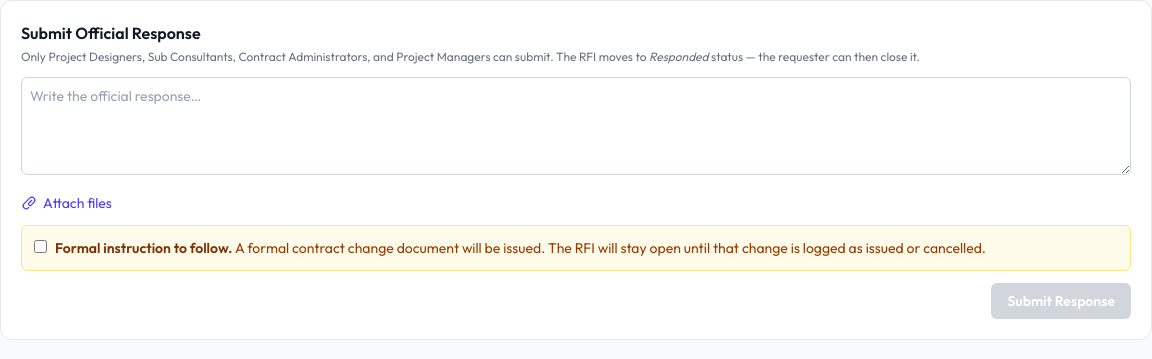
OfficialResponsePanel › can cancel from the confirm step without submitting
In the text box with placeholder "Write the official response…": {"x": 576, "y": 126} [21,77,1131,175], type "Will cancel."
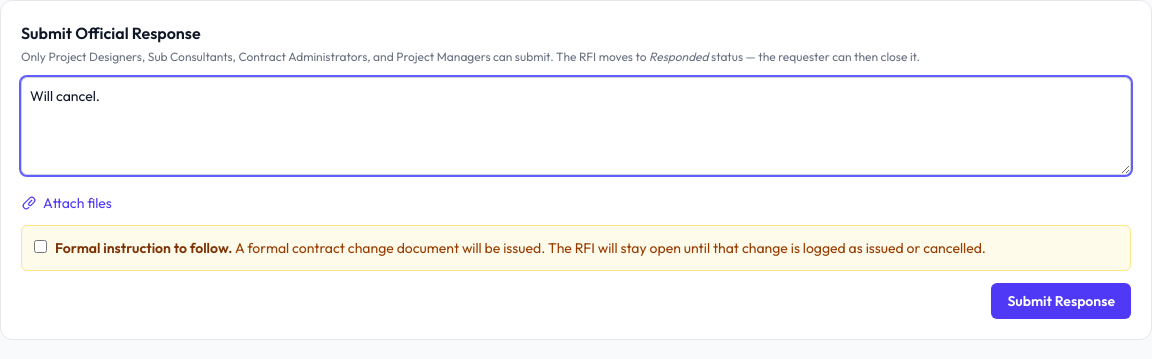
Click the button "Submit Response": {"x": 1061, "y": 301} [991,283,1131,319]
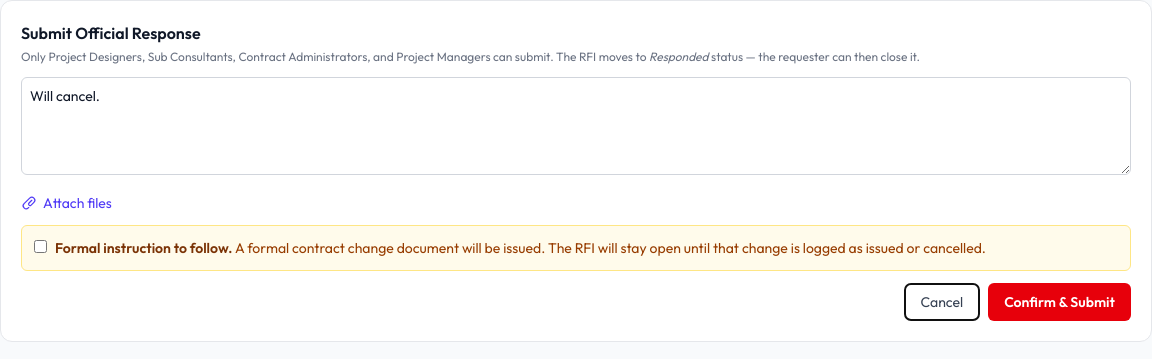
Note: Cancel from confirm step
Click the button "Cancel": {"x": 942, "y": 302} [904,283,980,321]
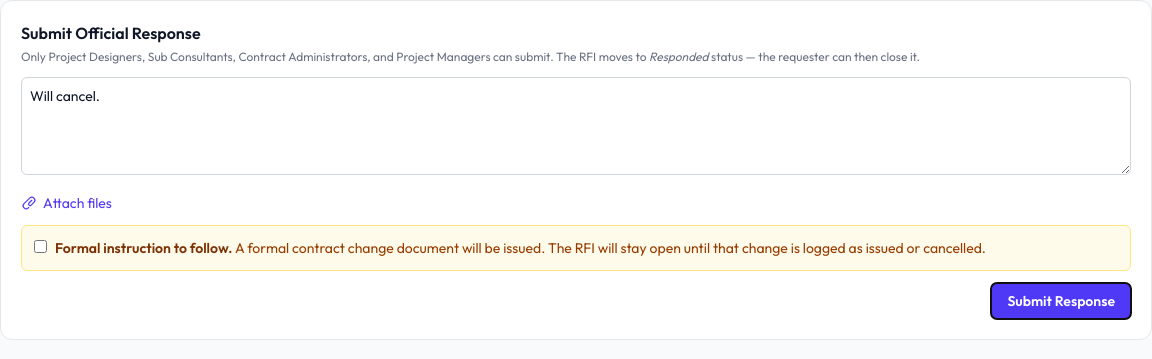
Check: the button "Submit Response" is shown, box [991,283,1131,319]
